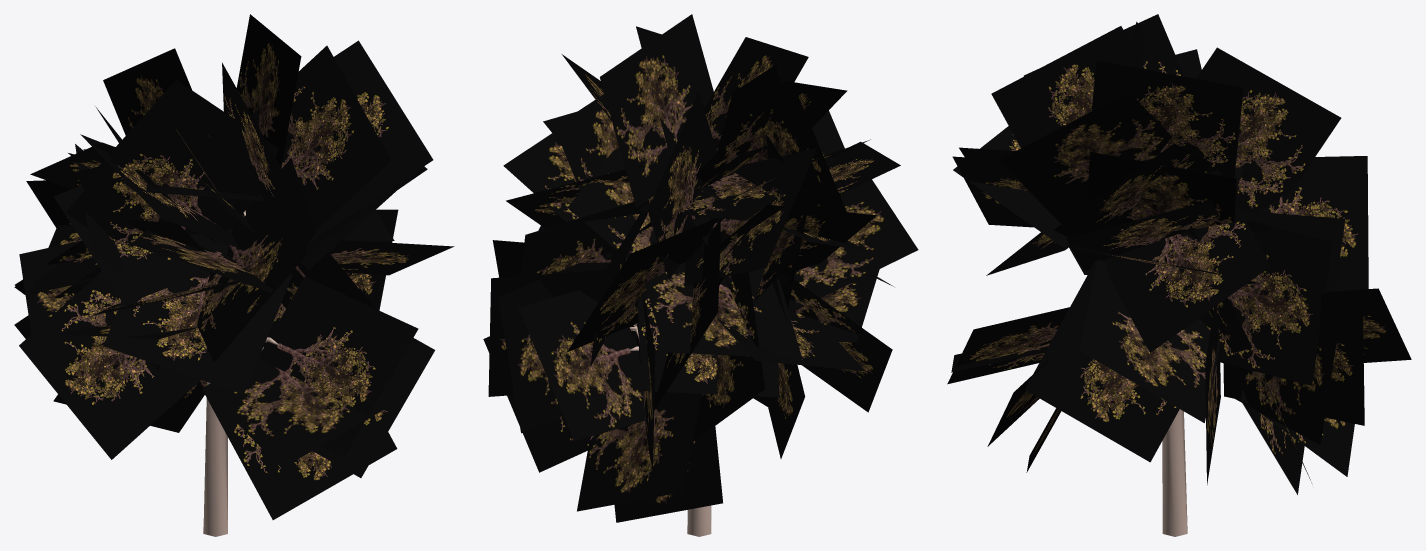
Rendered from tree34.glb.
The picture shows the model from 3 angles, left to right: view 1: azimuth 30°, elevation 25°; view 2: azimuth 150°, elevation 25°; view 3: azimuth 270°, elevation 25°; orthographic projection. The views are drawn at different scales.
Size of the model in its own units: 6.1 by 7.28 by 6.19.
Materials: 2 (1 with a texture image).
